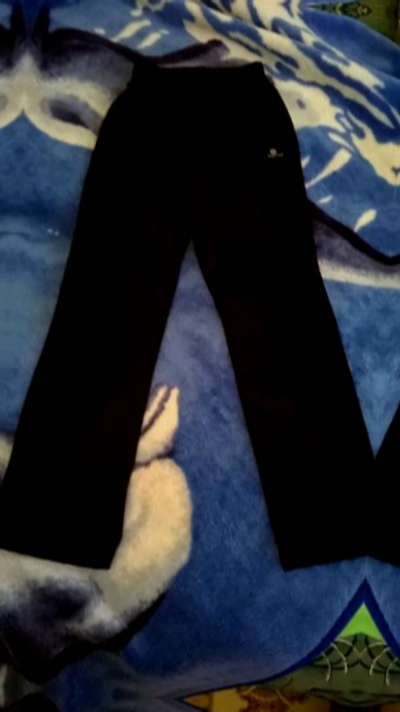Pants: (1, 33, 399, 595), (371, 62, 400, 624), (0, 4, 16, 566)
